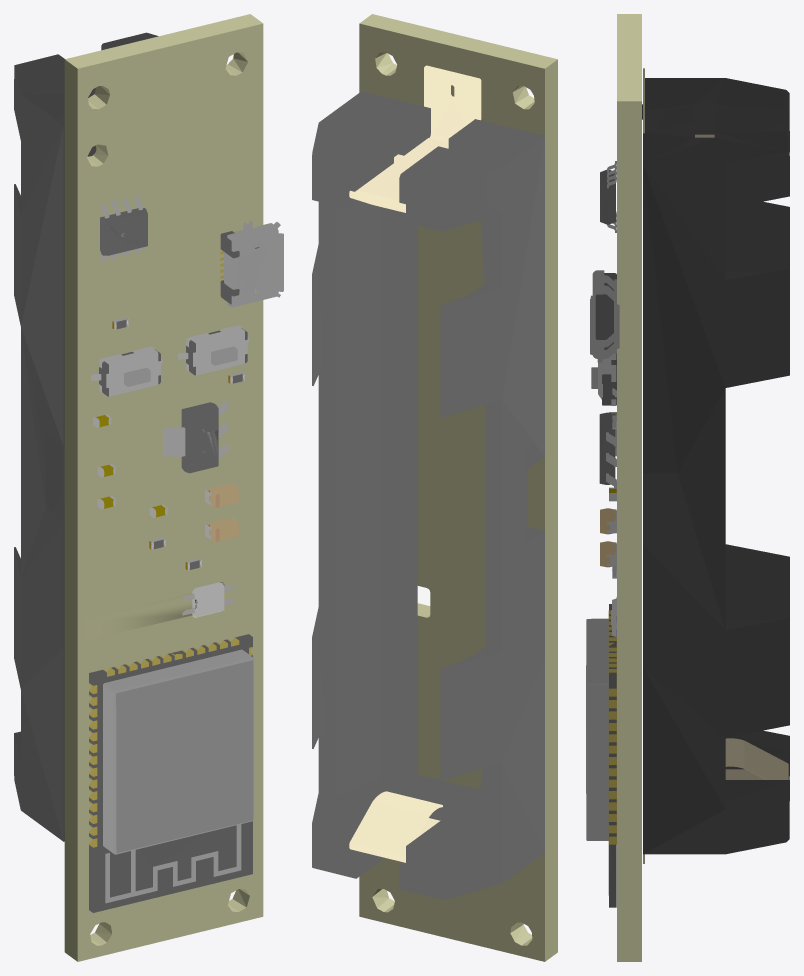
Rendered from SENSOR-KIT.fbx.
The picture shows the model from 3 angles, left to right: view 1: azimuth 30°, elevation 25°; view 2: azimuth 150°, elevation 25°; view 3: azimuth 270°, elevation 25°; orthographic projection. The views are drawn at different scales.
Visible parts, largest first — view 1: OBJ_PCB_remade-sensor-kit_2; view 2: OBJ_PCB_remade-sensor-kit_2; view 3: OBJ_PCB_remade-sensor-kit_2.
Part boxes in pixels (x1=…): OBJ_PCB_remade-sensor-kit_2: x1=14, y1=14, x2=283, y2=961; OBJ_PCB_remade-sensor-kit_2: x1=312, y1=14, x2=557, y2=961; OBJ_PCB_remade-sensor-kit_2: x1=586, y1=14, x2=789, y2=961.
Size of the model in its own units: 824 by 3632 by 779.
